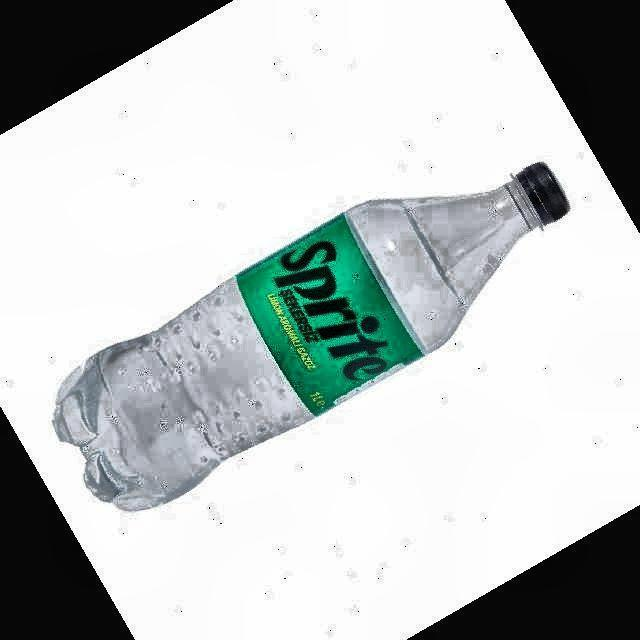plastic: (55, 162, 569, 510)
